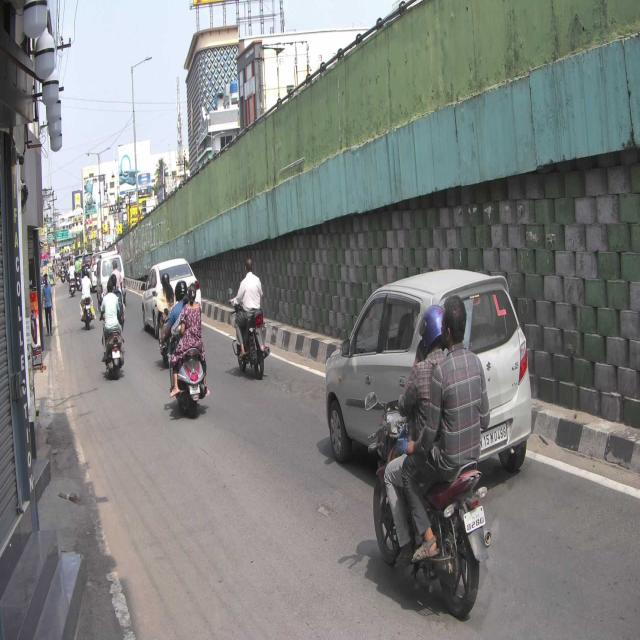double_rider: (367, 294, 493, 623)
